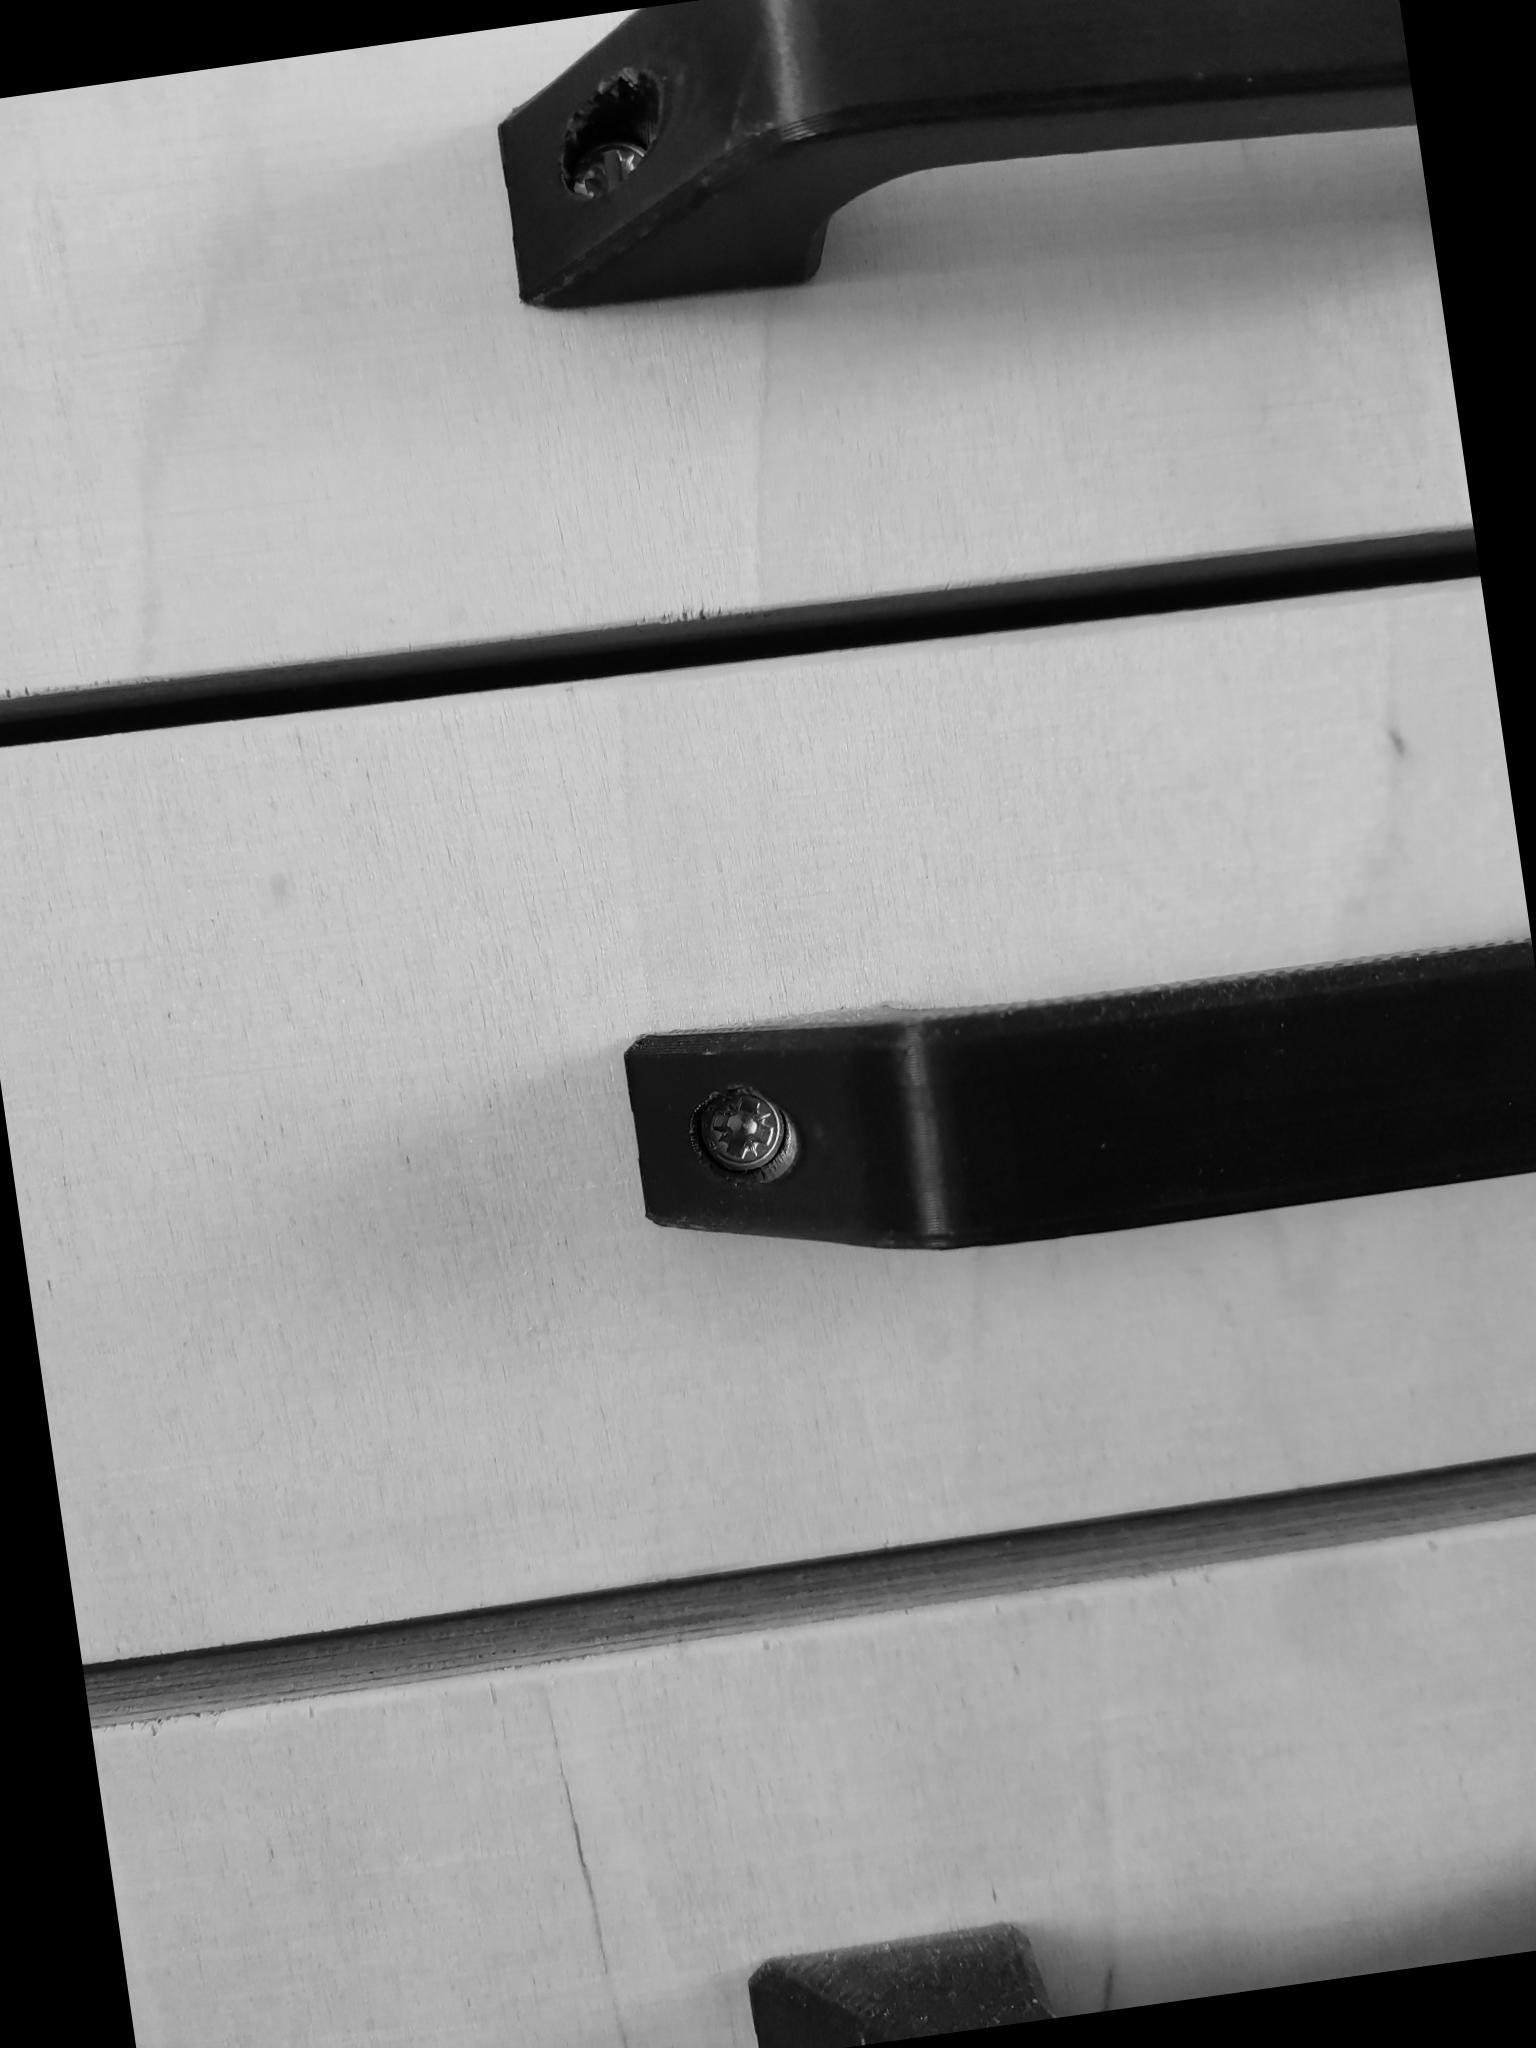philips-PZ: (670, 1072, 797, 1193)
